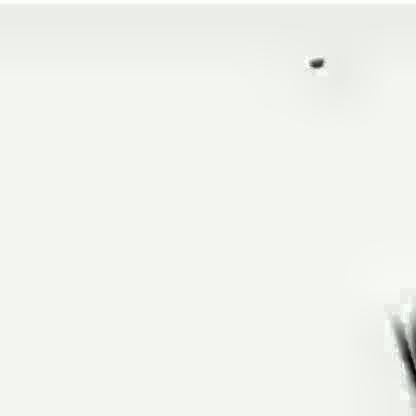golfball: (305, 54, 323, 67)
